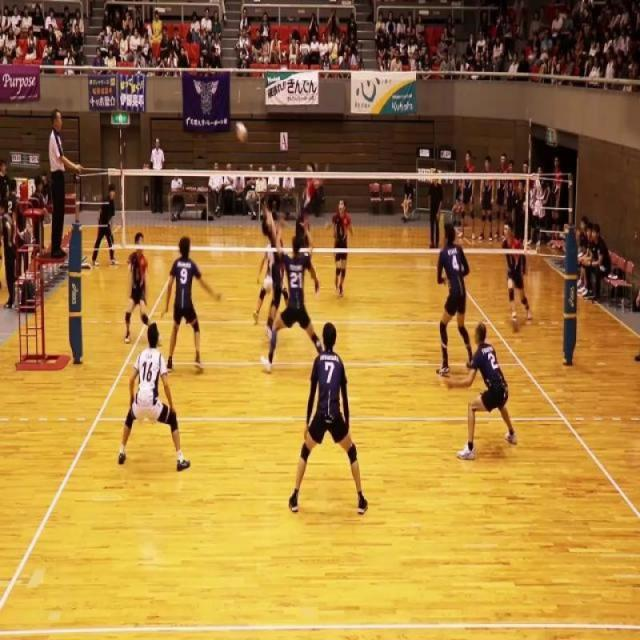volleyball: (235, 119, 248, 143)
